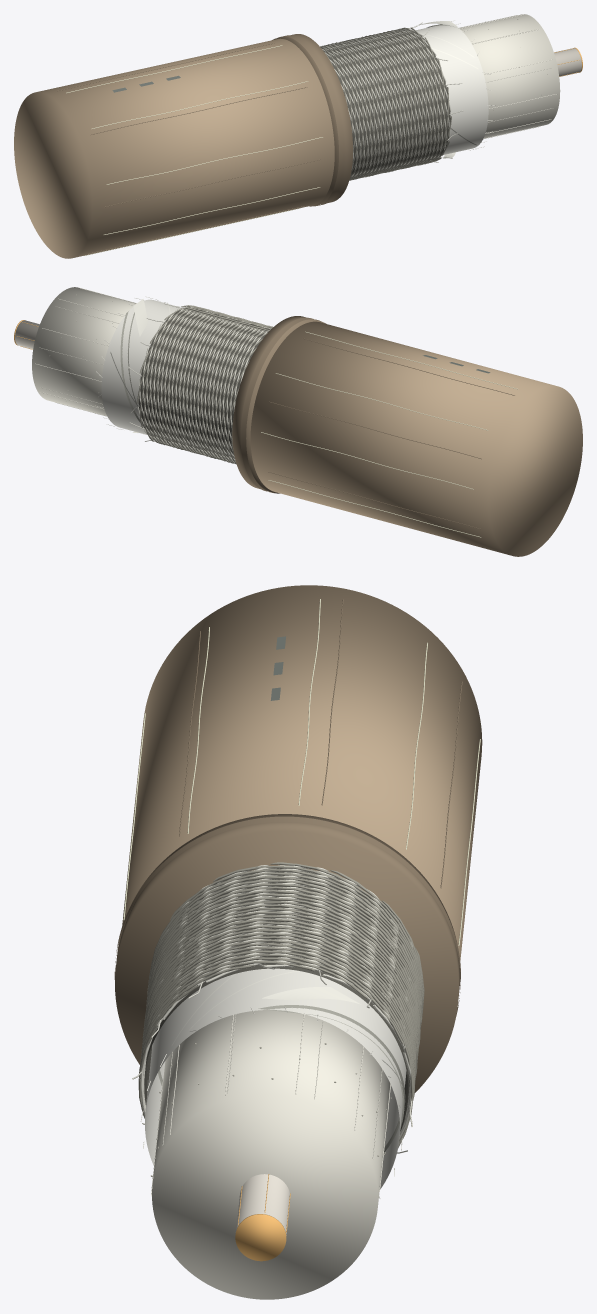
File: rf-rg6-macro.glb
The picture shows the model from 3 angles, top to bottom: view 1: azimuth 30°, elevation 25°; view 2: azimuth 150°, elevation 25°; view 3: azimuth 270°, elevation 25°; orthographic projection. The views are drawn at different scales.
Visible parts, largest first — view 1: macro jacket body, macro dielectric exposed core, shadow seen through braid windows, continuous foil sleeve under braid, thick jacket cut wall, rounded jacket cut lip, polished solid center conductor, macro braid shadow carrier 08 strand 1, macro braid shadow carrier 06 strand 1, macro braid shadow carrier 07 strand 1, macro braid shadow carrier 09 strand 1, macro braid shadow carrier 05 strand 1 (+10 smaller); view 2: macro jacket body, macro dielectric exposed core, shadow seen through braid windows, continuous foil sleeve under braid, thick jacket cut wall, rounded jacket cut lip, macro braid shadow carrier 04 strand 1, polished solid center conductor, macro braid shadow carrier 03 strand 1, macro braid shadow carrier 02 strand 1, macro braid shadow carrier 01 strand 1, macro braid shadow carrier 05 strand 1 (+10 smaller); view 3: macro jacket body, macro dielectric exposed core, thick jacket cut wall, continuous foil sleeve under braid, shadow seen through braid windows, rounded jacket cut lip, polished solid center conductor, polished conductor cut face glow, macro braid shadow carrier 11 strand 2, macro braid shadow carrier 10 strand 2, macro braid shadow carrier 06 strand 2, macro braid shadow carrier 08 strand 2 (+11 smaller).
Boxes of the visible parts, x1,y1,x2,y2 form: macro jacket body: (14, 38, 334, 258); macro dielectric exposed core: (459, 14, 560, 138); shadow seen through braid windows: (323, 30, 450, 177); continuous foil sleeve under braid: (416, 24, 488, 154); thick jacket cut wall: (272, 34, 352, 206); rounded jacket cut lip: (278, 35, 344, 206); polished solid center conductor: (554, 48, 581, 76); macro braid shadow carrier 08 strand 1: (349, 28, 433, 179); macro braid shadow carrier 06 strand 1: (343, 29, 426, 180); macro braid shadow carrier 07 strand 1: (345, 29, 430, 180); macro braid shadow carrier 09 strand 1: (354, 28, 437, 178); macro braid shadow carrier 05 strand 1: (339, 30, 422, 178); macro jacket body: (250, 321, 582, 556); macro dielectric exposed core: (32, 287, 135, 416); shadow seen through braid windows: (138, 308, 269, 458); continuous foil sleeve under braid: (101, 299, 181, 434); thick jacket cut wall: (232, 316, 326, 493); rounded jacket cut lip: (240, 317, 320, 493); macro braid shadow carrier 04 strand 1: (144, 311, 270, 456); polished solid center conductor: (15, 320, 39, 349); macro braid shadow carrier 03 strand 1: (147, 312, 273, 457); macro braid shadow carrier 02 strand 1: (151, 313, 272, 458); macro braid shadow carrier 01 strand 1: (154, 314, 271, 459); macro braid shadow carrier 05 strand 1: (140, 310, 266, 455); macro jacket body: (122, 585, 482, 960); macro dielectric exposed core: (152, 1010, 390, 1299); thick jacket cut wall: (115, 814, 460, 1092); continuous foil sleeve under braid: (145, 968, 406, 1188); shadow seen through braid windows: (144, 868, 409, 1131); rounded jacket cut lip: (114, 816, 460, 1015); polished solid center conductor: (236, 1174, 290, 1235); polished conductor cut face glow: (235, 1214, 286, 1261); macro braid shadow carrier 11 strand 2: (139, 869, 422, 1069); macro braid shadow carrier 10 strand 2: (140, 866, 422, 1063); macro braid shadow carrier 06 strand 2: (142, 901, 424, 1096); macro braid shadow carrier 08 strand 2: (145, 870, 423, 1047).
Bounding box in the file's own units: 6.47 × 1.89 × 2.
